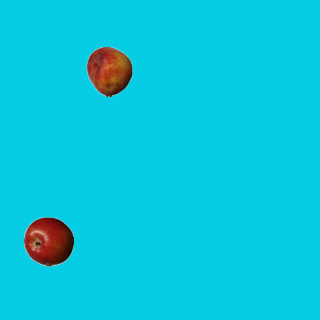Apple Braeburn: (23, 216, 73, 266)
Peach: (84, 46, 134, 96)
